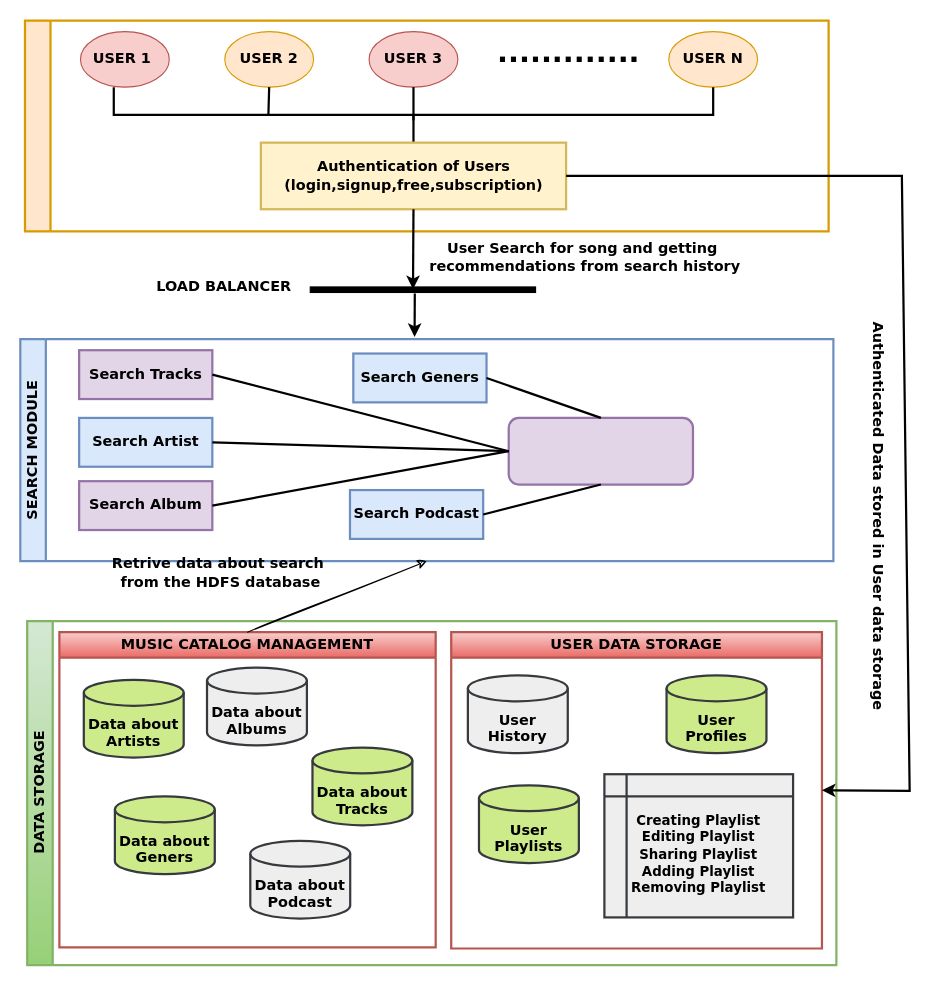
The diagram is 939 pixels wide and 985 high, and some of its shapes have lost their labels. Each missing label, with the centre of its shape:
"CUSTOMER SEGMENT" belongs at (x=426, y=125).
"Search History Recommendations" belongs at (x=600, y=450).
